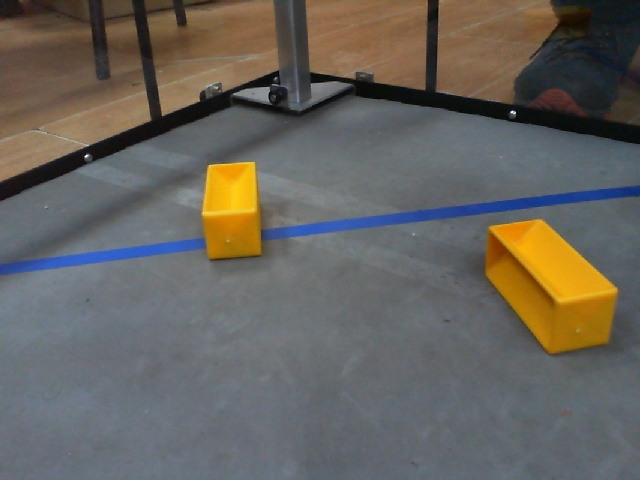YellowSample: (476, 213, 619, 357), (199, 158, 267, 263)
